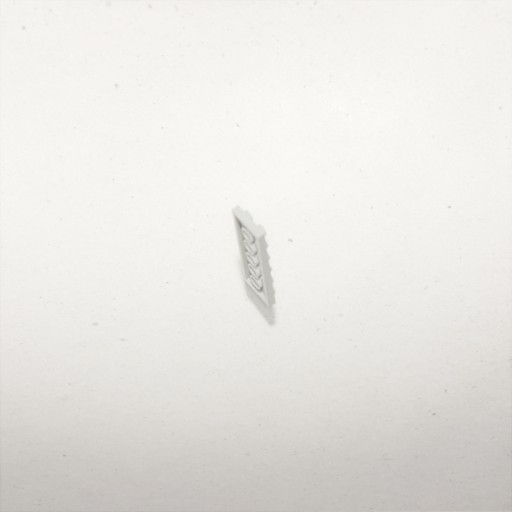lego: (231, 204, 276, 308)
